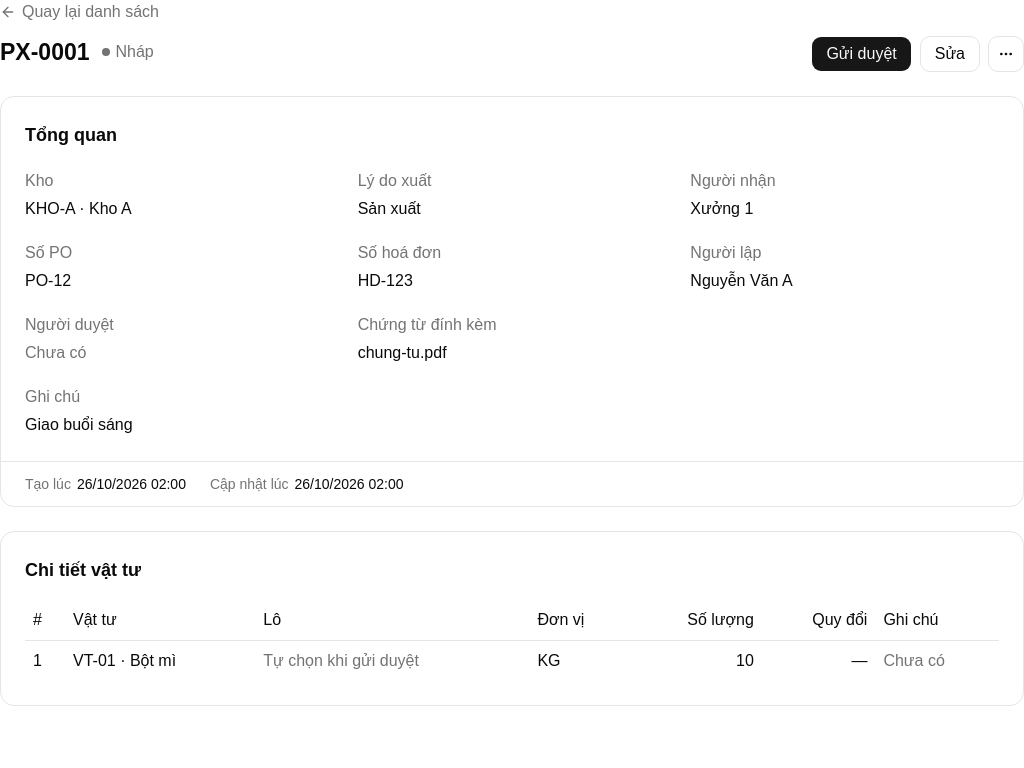
ExportFormDetailPage › bấm Gửi duyệt → mở hộp gửi duyệt
Click the button "Gửi duyệt": point(862, 54) x1=811 y1=36 x2=912 y2=72
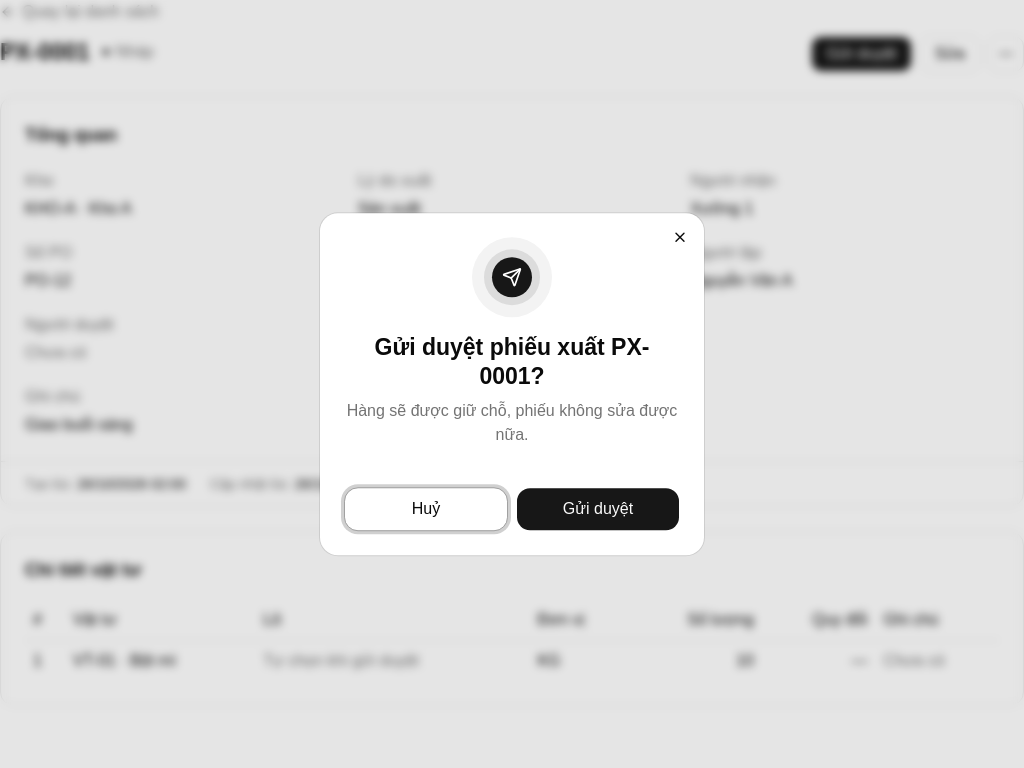
expect the heading "Gửi duyệt phiếu xuất PX-0001?" is shown: met, box x1=375 y1=334 x2=649 y2=389
